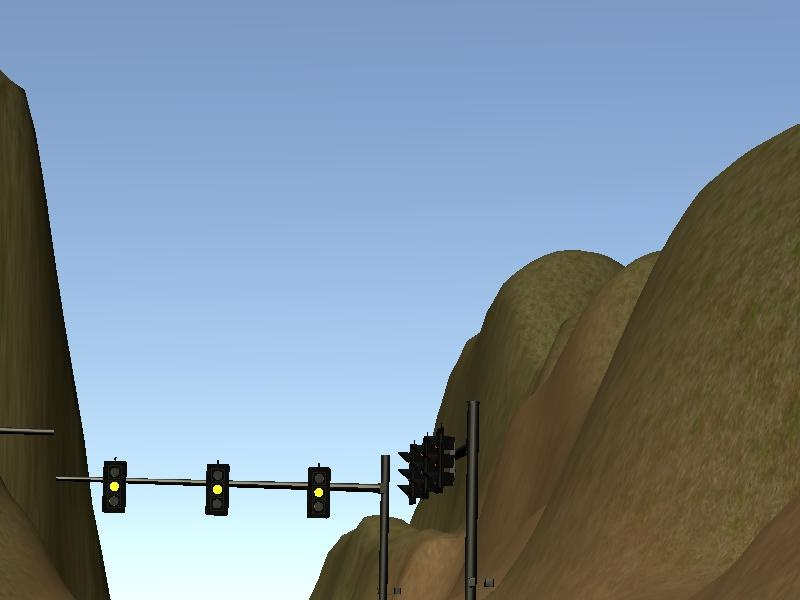Yellow: (206, 464, 230, 515), (103, 461, 126, 512), (308, 467, 331, 518)
